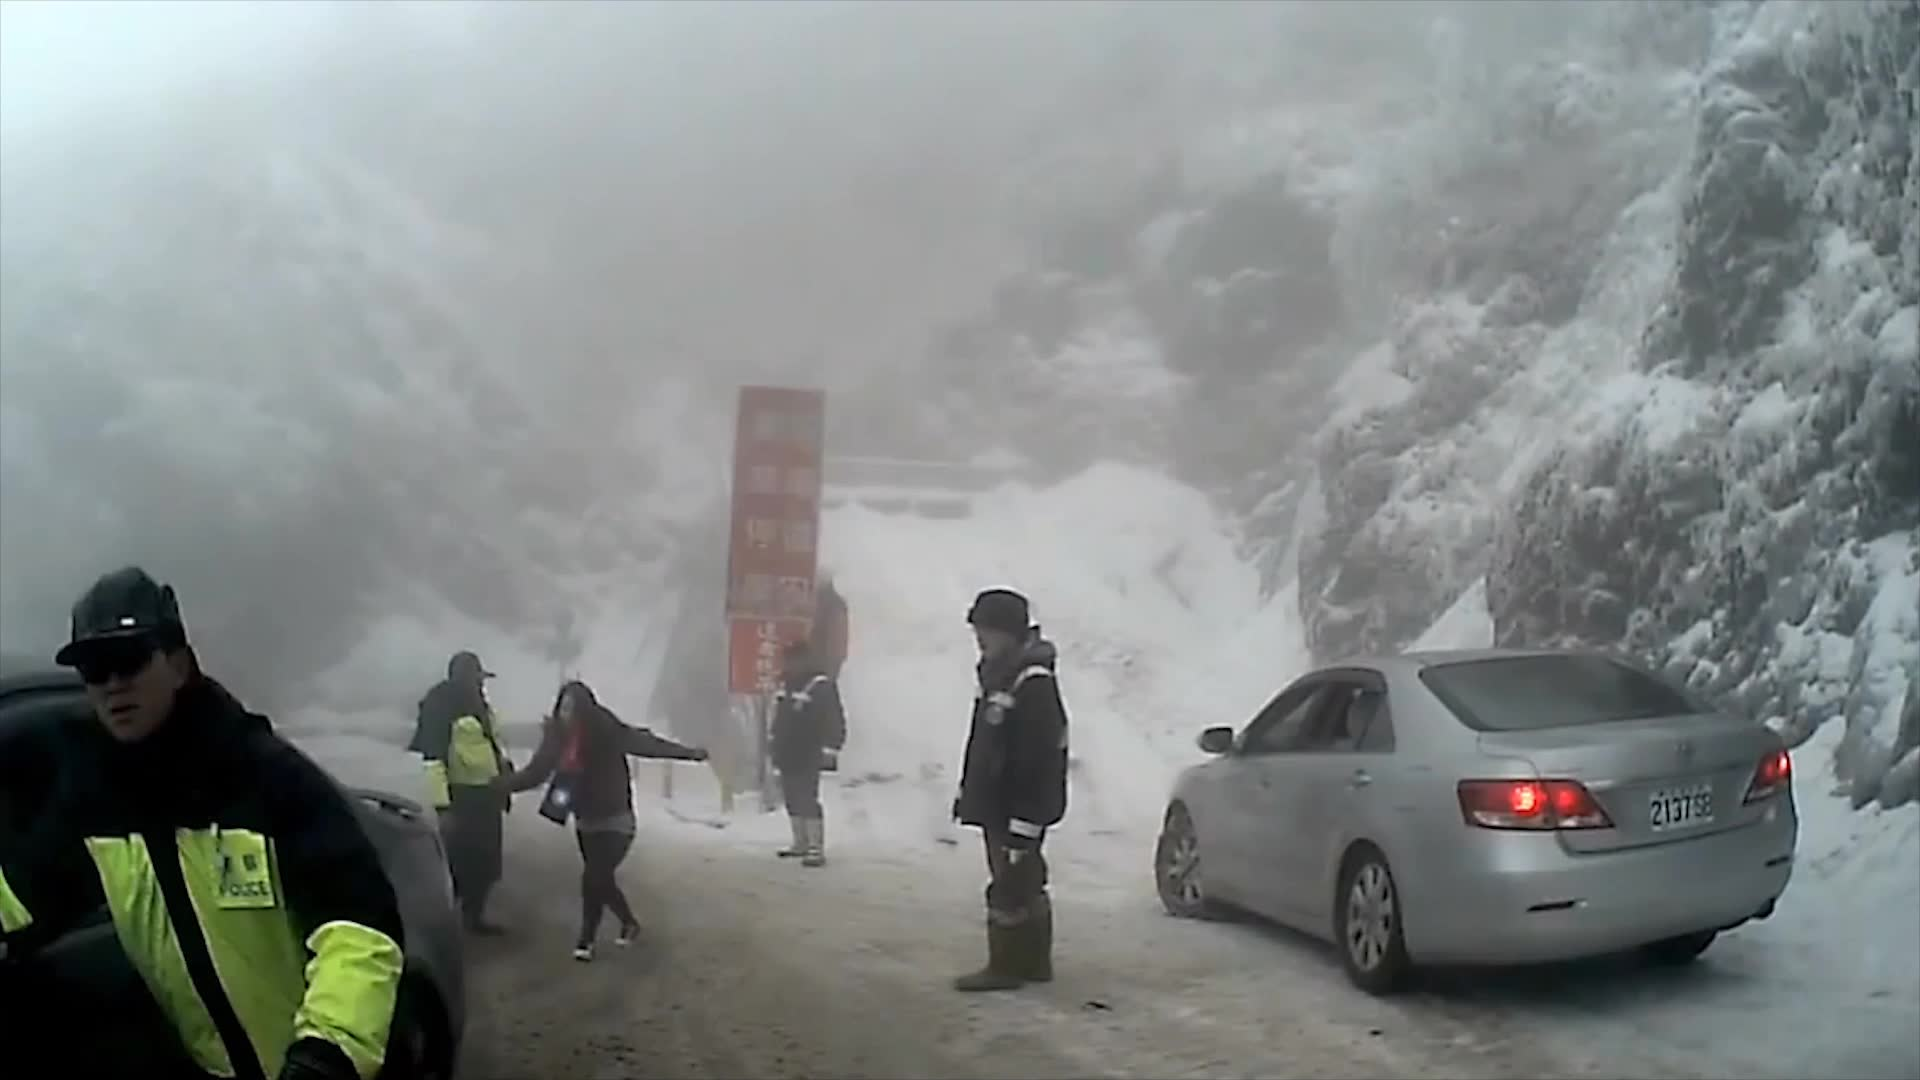pedestrian: (1, 568, 410, 1080), (506, 678, 699, 956), (937, 586, 1068, 994), (409, 650, 520, 936), (764, 638, 846, 867), (793, 564, 855, 749)
vehicle: (1149, 646, 1798, 995), (0, 660, 465, 1079)
